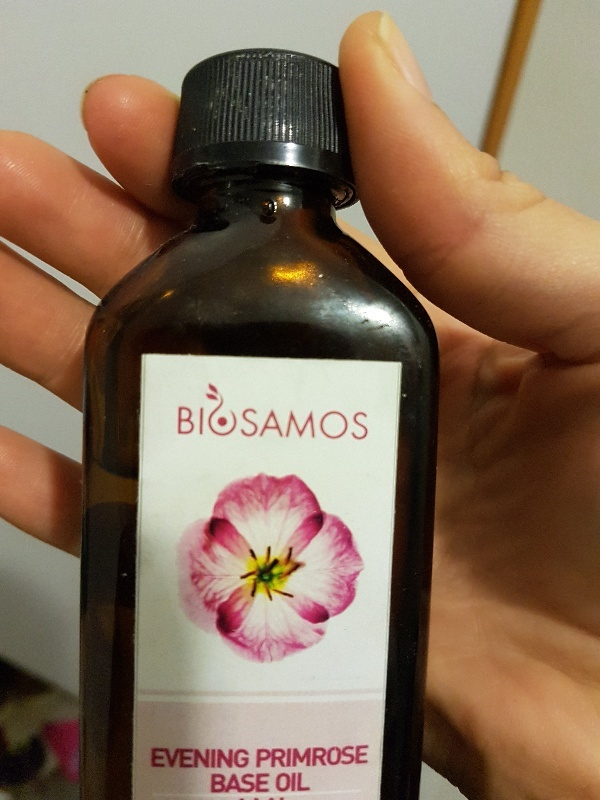text: (353, 404, 369, 440), (177, 404, 192, 440), (193, 404, 208, 440), (209, 404, 224, 440), (225, 404, 240, 440), (241, 404, 256, 440), (257, 404, 272, 440), (273, 404, 288, 440), (289, 404, 304, 440), (305, 404, 320, 440), (321, 404, 336, 440), (337, 404, 352, 440), (257, 745, 272, 768), (273, 745, 288, 768), (289, 745, 304, 768), (305, 745, 320, 768), (321, 745, 336, 768), (337, 745, 352, 768), (353, 745, 368, 768), (161, 747, 176, 769), (177, 747, 192, 769), (193, 747, 208, 769), (209, 747, 224, 769), (225, 747, 240, 769), (225, 773, 240, 794), (241, 773, 256, 794), (289, 771, 304, 792), (257, 773, 271, 794), (211, 773, 224, 794), (276, 771, 288, 792), (151, 747, 160, 769), (241, 747, 250, 769), (305, 771, 311, 792), (369, 745, 370, 768)
